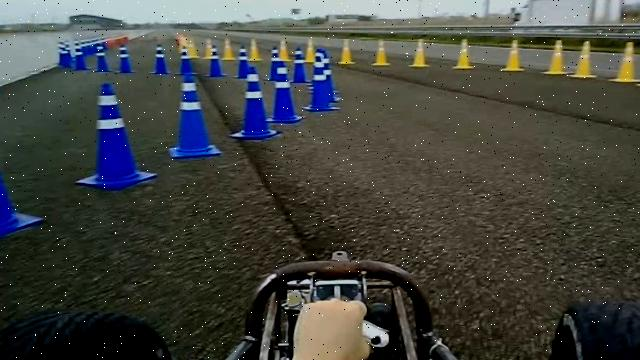blue cone: (75, 82, 157, 190), (0, 110, 43, 244), (168, 54, 222, 158), (229, 69, 280, 140), (265, 63, 305, 124)
